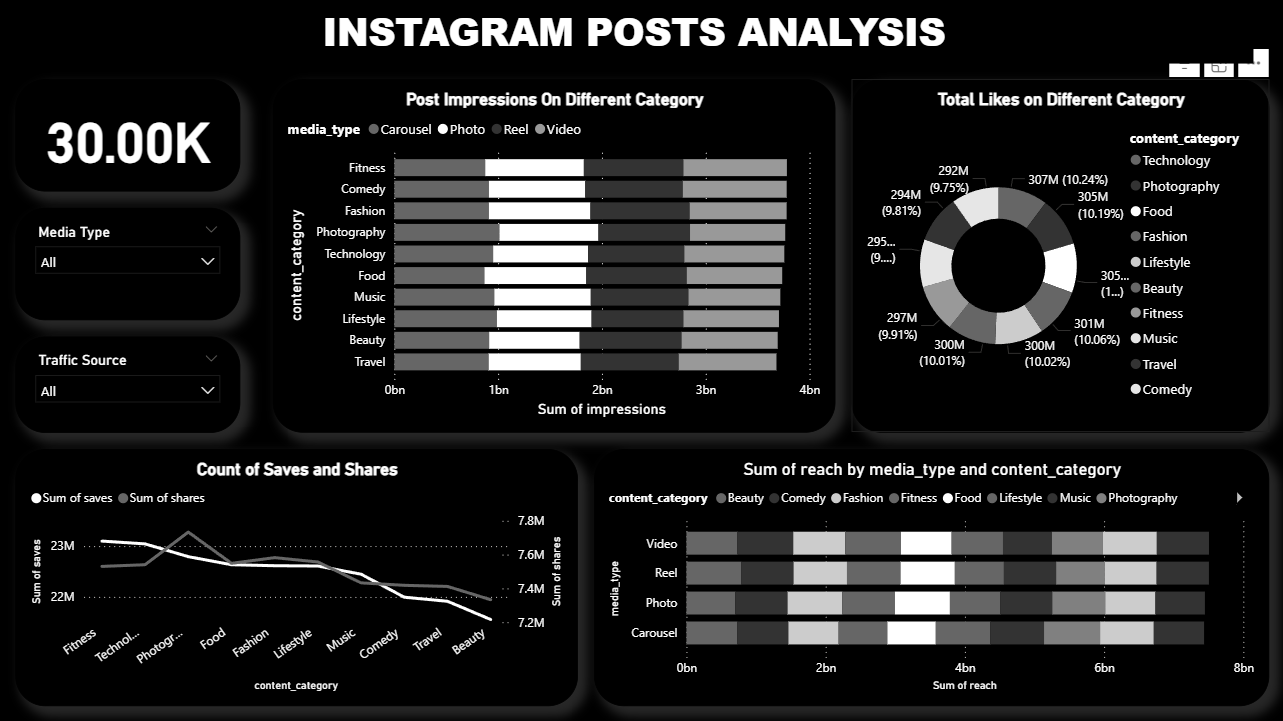

This screenshot's page, from the dashboard's own definition file:
{"tool":"powerbi","page":{"name":"Page 2","canvas":[1280,720],"ordinal":1},"visuals":[{"type":"card","fields":{"Values":["CountNonNull(Instagram_Analytics.post_id)"]},"box":[16,80,224,112],"z":0},{"type":"slicer","fields":{"Values":["Instagram_Analytics.media_type"]},"box":[16,208,224,112],"z":1000},{"type":"slicer","fields":{"Values":["Instagram_Analytics.traffic_source"]},"box":[16,336,224,96],"z":2000},{"type":"barChart","title":"Post Impressions On Different Category","fields":{"Category":["Instagram_Analytics.content_category"],"Y":["Sum(Instagram_Analytics.impressions)"],"Series":["Instagram_Analytics.media_type"]},"box":[272,80,560,352],"z":3000},{"type":"donutChart","title":"Total Likes on Different Category","fields":{"Category":["Instagram_Analytics.content_category"],"Y":["Sum(Instagram_Analytics.likes)"]},"box":[848,80,416,352],"z":4000},{"type":"lineChart","title":"Count of Saves and Shares","fields":{"Category":["Instagram_Analytics.content_category"],"Y":["Sum(Instagram_Analytics.saves)"],"Y2":["Sum(Instagram_Analytics.shares)"]},"box":[16,448,560,256],"z":5000},{"type":"barChart","fields":{"Series":["Instagram_Analytics.content_category"],"Category":["Instagram_Analytics.media_type"],"Y":["Sum(Instagram_Analytics.reach)"]},"box":[592,448,672,256],"z":6000},{"type":"textbox","box":[16,0,1232,64],"z":7000}]}

Visuals, with their boxes in screenshot pixels (x1, y1, x2, y2), scaled from the page's 1280x720 canvas onto the 1283x721 screenshot:
card - CountNonNull(Instagram_Analytics.post_id): bbox(16, 80, 241, 192)
slicer - Instagram_Analytics.media_type: bbox(16, 208, 241, 320)
slicer - Instagram_Analytics.traffic_source: bbox(16, 336, 241, 433)
"Post Impressions On Different Category" barChart: bbox(273, 80, 834, 433)
"Total Likes on Different Category" donutChart: bbox(850, 80, 1267, 433)
"Count of Saves and Shares" lineChart: bbox(16, 449, 577, 705)
barChart - Instagram_Analytics.content_category x Instagram_Analytics.media_type: bbox(593, 449, 1267, 705)
textbox: bbox(16, 0, 1251, 64)
